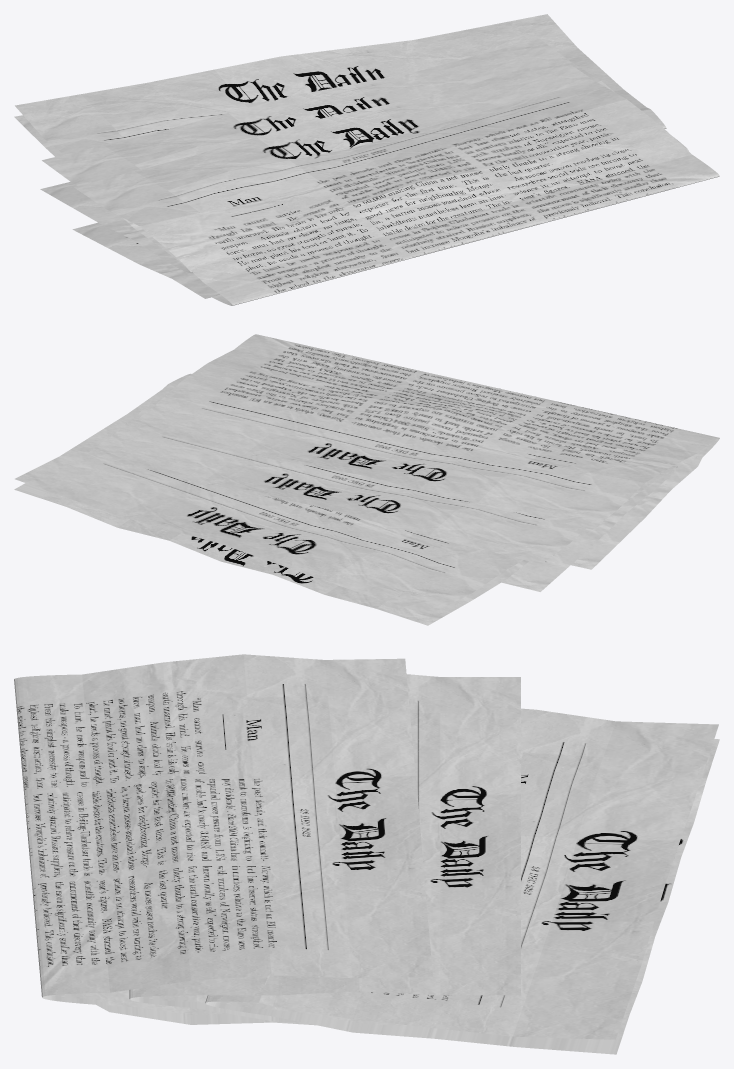
The model's file is newspaper2.glb.
3 renders of one model, top to bottom at view 1: azimuth 30°, elevation 25°; view 2: azimuth 150°, elevation 25°; view 3: azimuth 270°, elevation 25°, orthographic. The views are drawn at different scales.
Visible parts, largest first — view 1: np mid; view 2: np mid; view 3: np mid.
Boxes of the visible parts, bbox=[...] form: np mid: bbox=[14, 14, 719, 305]; np mid: bbox=[14, 334, 719, 625]; np mid: bbox=[14, 654, 719, 1054].
Size of the model in its own units: 4.3 by 0.3947 by 3.62.
1 material, 1 textured.
